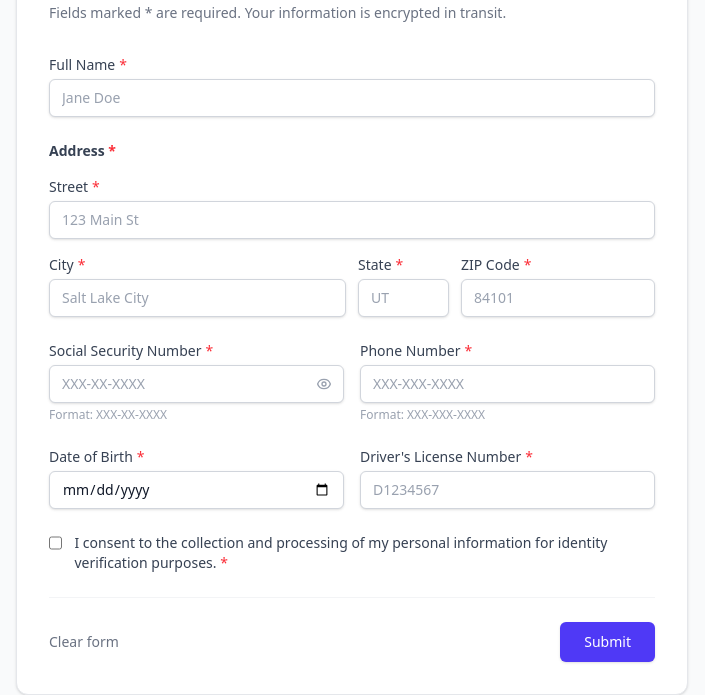
Test: IdentityForm — clear form › "Clear form" button resets errors
(page scrolled)
Click the button "Submit" at coordinates (608, 642), box [560,622,655,662]
(page scrolled)
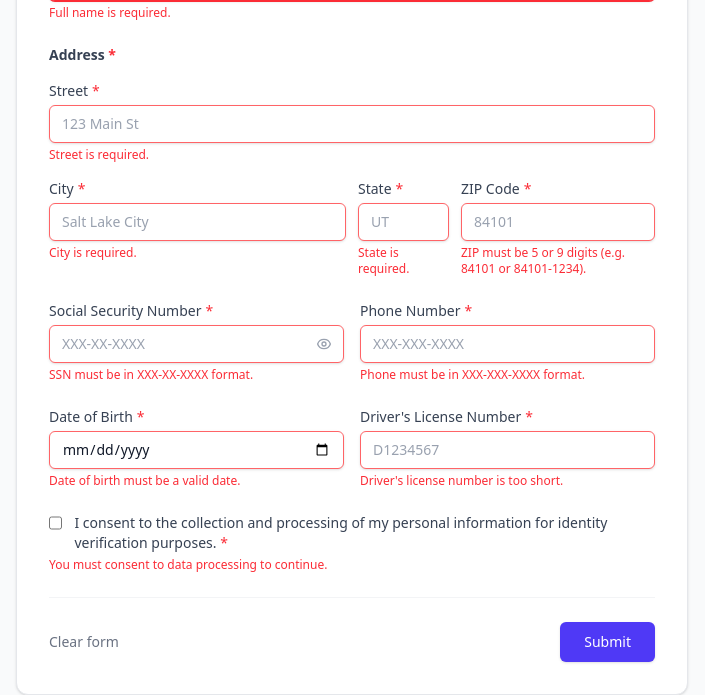
Result: the text "Full name is required." is shown at [49,4,171,21]
Click the button "Clear form" at coordinates (84, 642), box [49,632,119,652]
(page scrolled)
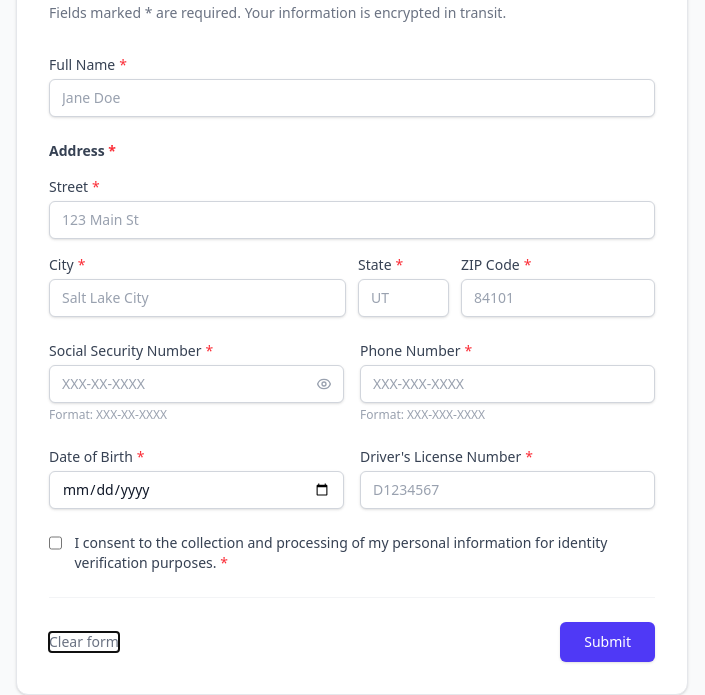
Result: the text "Full name is required" is gone
